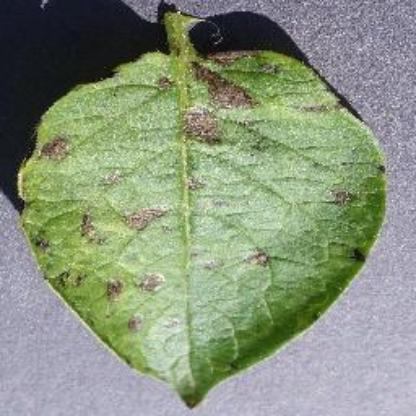Early-Blight: (15, 5, 416, 410)
